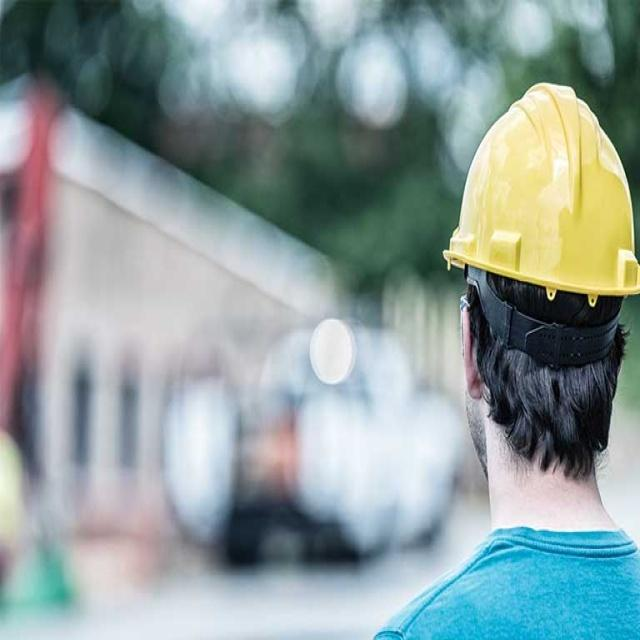helmet: (442, 108, 640, 632)
